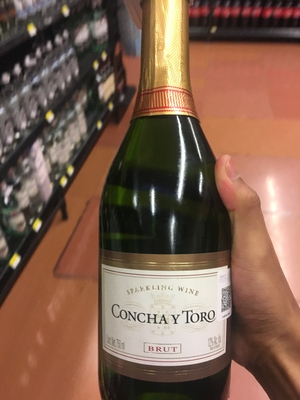brut: (82, 18, 241, 400)
